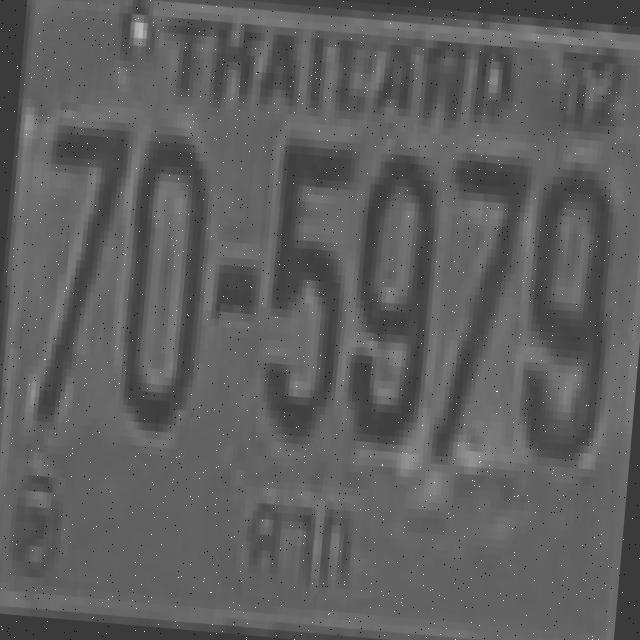0: (115, 124, 212, 426)
5: (255, 128, 353, 438)
7: (24, 112, 126, 422), (427, 148, 529, 458)
9: (512, 159, 620, 454), (340, 144, 441, 438)
Tak: (236, 482, 362, 594)
